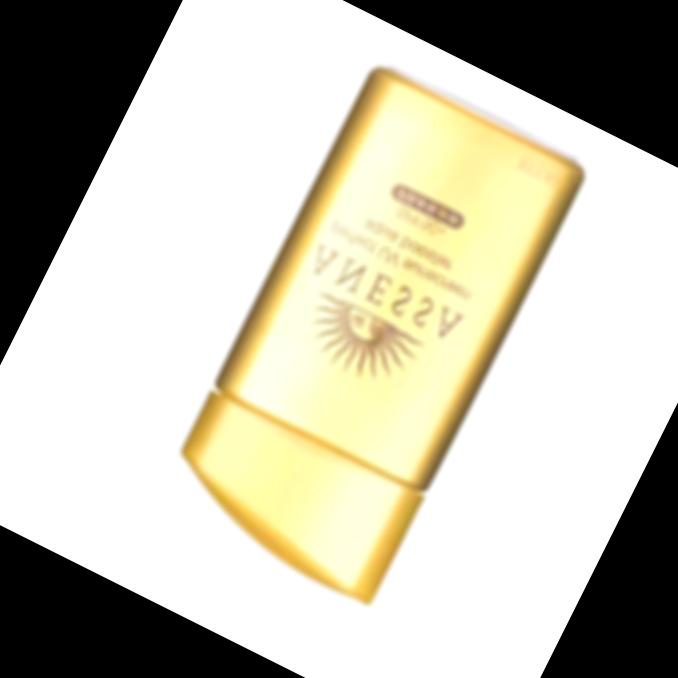cosmetic: (150, 63, 588, 610)
